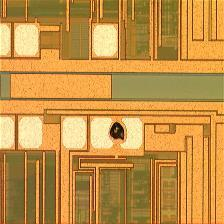PARTICLE: (107, 122, 130, 144)
